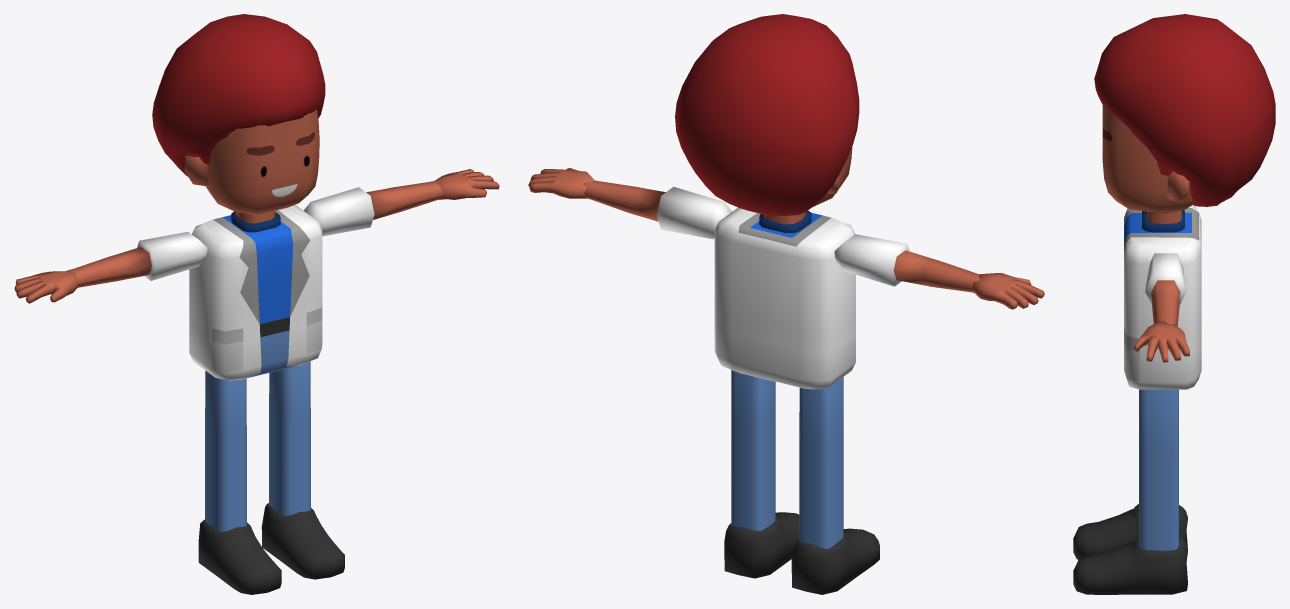
File: NPC_Black02_RedHair01.gltf
3 renders of one model, left to right at view 1: azimuth 30°, elevation 25°; view 2: azimuth 150°, elevation 25°; view 3: azimuth 270°, elevation 25°, orthographic. The views are drawn at different scales.
Parts seen in each view (by area): view 1: NPC_Corpo_Black2_RedHair.001; view 2: NPC_Corpo_Black2_RedHair.001; view 3: NPC_Corpo_Black2_RedHair.001.
Part boxes in pixels (x1,y1,x2,y2): NPC_Corpo_Black2_RedHair.001: (14, 14, 499, 594); NPC_Corpo_Black2_RedHair.001: (528, 14, 1044, 594); NPC_Corpo_Black2_RedHair.001: (1073, 14, 1275, 594).
Size of the model in its own units: 2.31 by 2.41 by 0.8168.
Materials: 1 (1 with a texture image).
